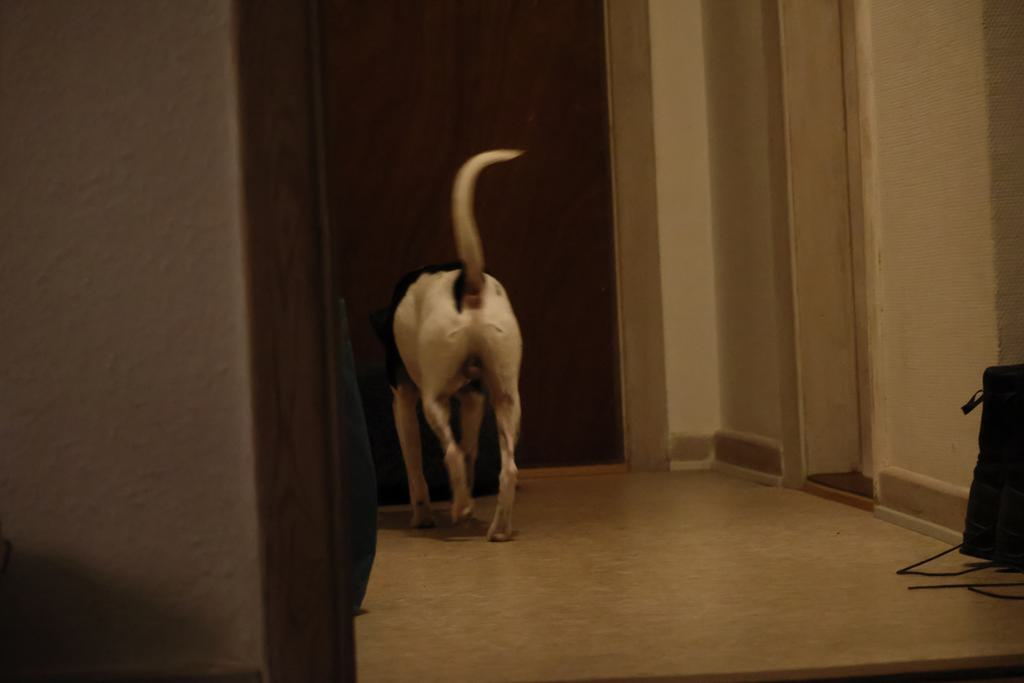Dog: (347, 133, 546, 553)
